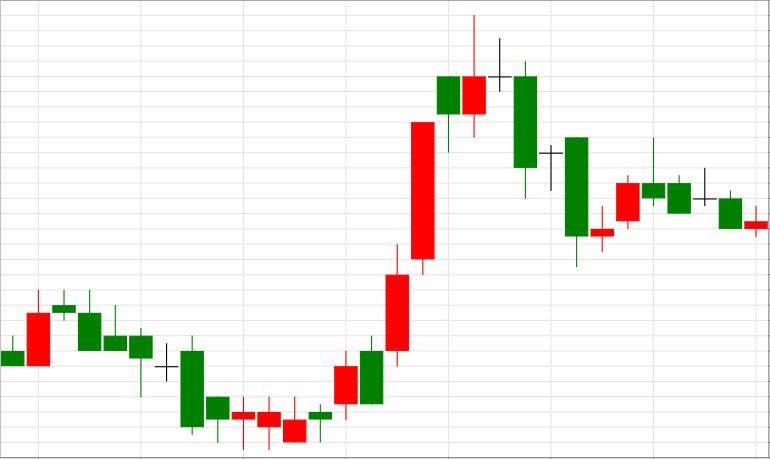evening_star_fall: (335, 13, 537, 421)
hanging_man_fall: (334, 77, 460, 421)
shooting_star_fall: (335, 16, 486, 421)
